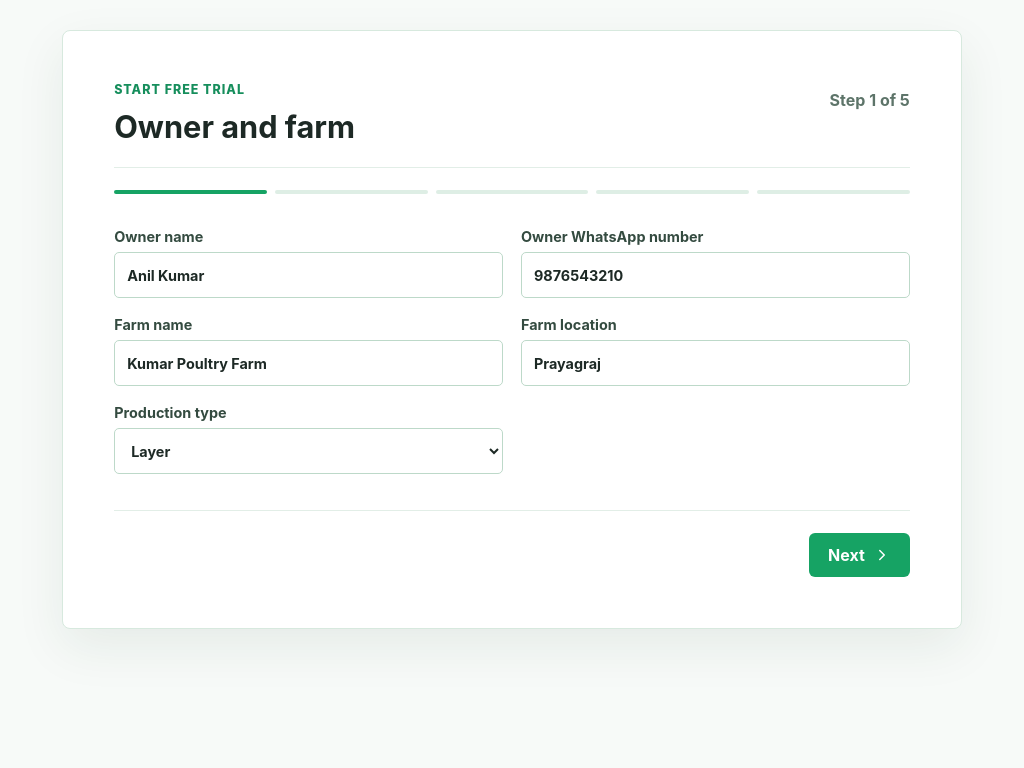
Test: TrialForm › uses live-bird and feed-inventory labels and allows adding a fourth shed
This screenshot has width=1024, height=768.
Click the button "Next" at (859, 555), box x1=809 y1=533 x2=910 y2=577
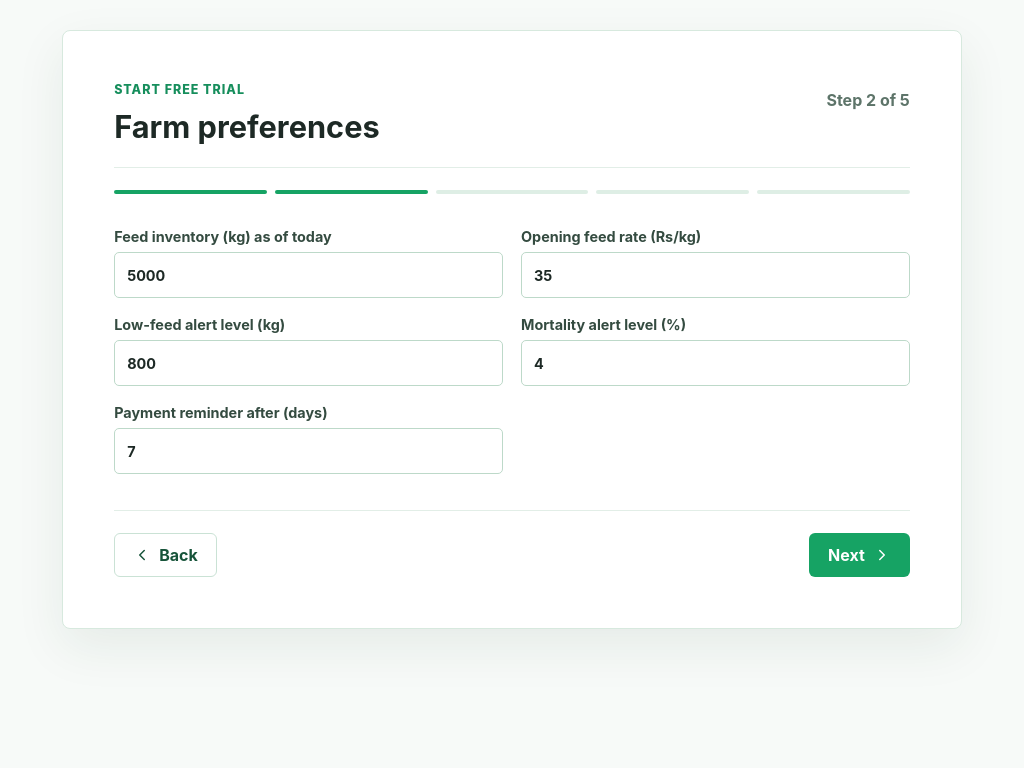
expect the heading "Farm preferences" is shown: met, box x1=114 y1=111 x2=380 y2=143
expect the number field labelled "Feed inventory (kg) as of today" is shown: met, box x1=114 y1=252 x2=503 y2=298
Click the button "Next" at (859, 555), box x1=809 y1=533 x2=910 y2=577
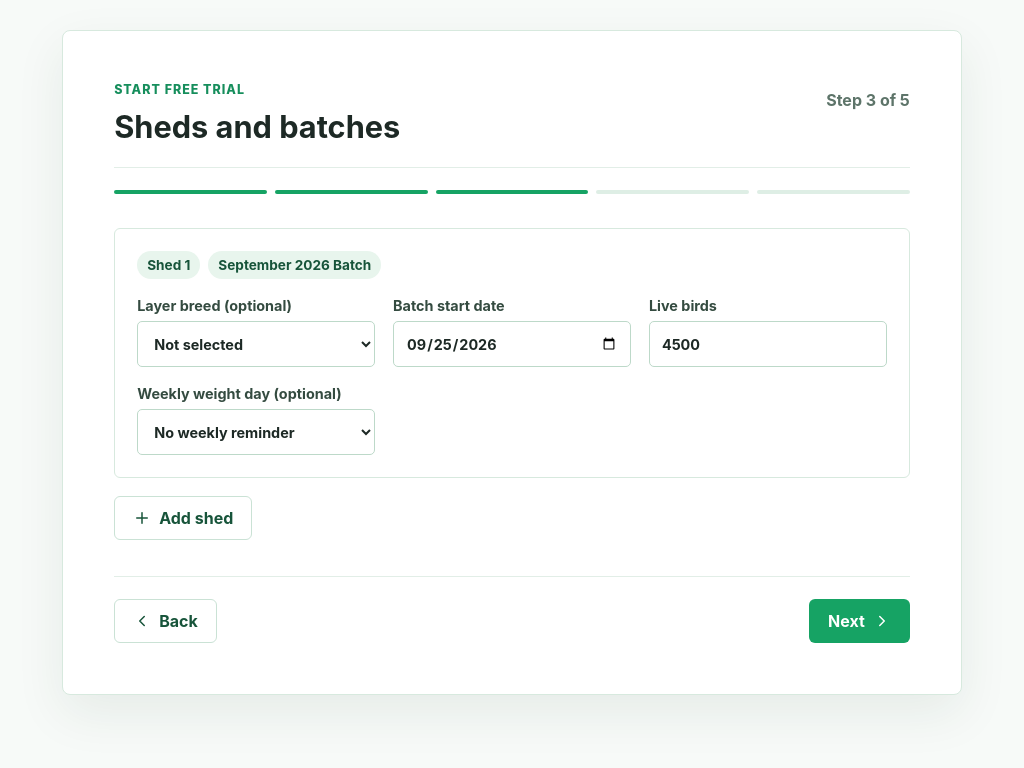
expect the heading "Sheds and batches" is shown: met, box x1=114 y1=111 x2=400 y2=143
expect the number field labelled "Live birds" is shown: met, box x1=649 y1=321 x2=887 y2=367
Click the button "Add shed" at (183, 518), box x1=114 y1=496 x2=252 y2=540
(page scrolled)
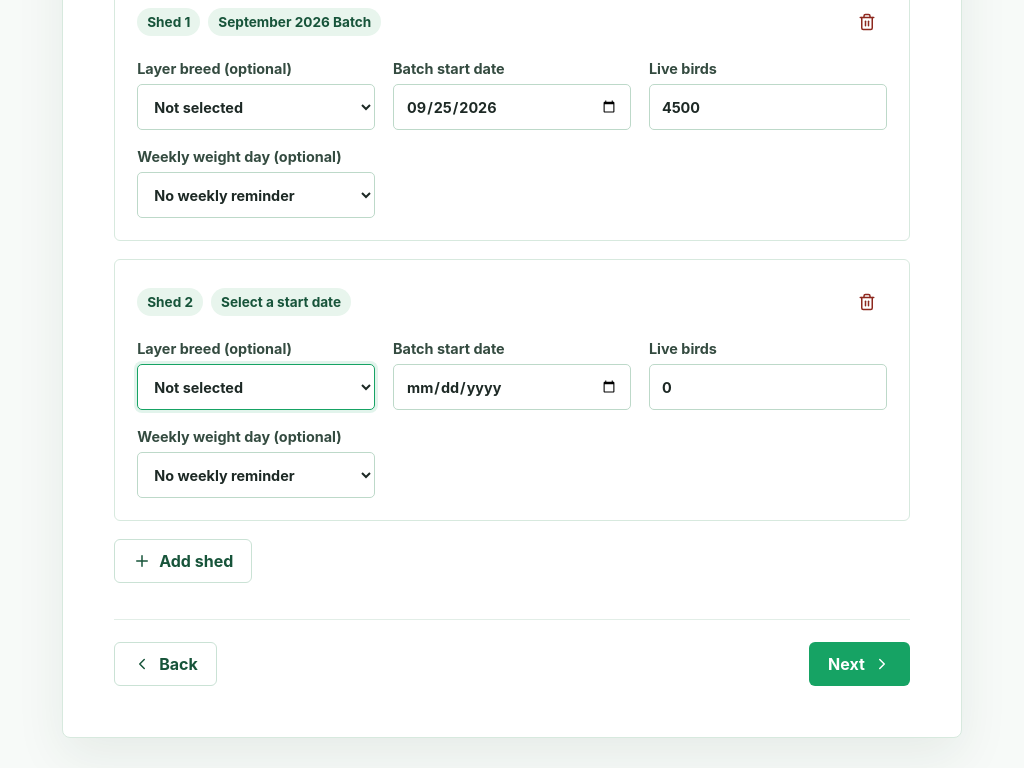
Click the button "Add shed" at (183, 561), box x1=114 y1=539 x2=252 y2=583
(page scrolled)
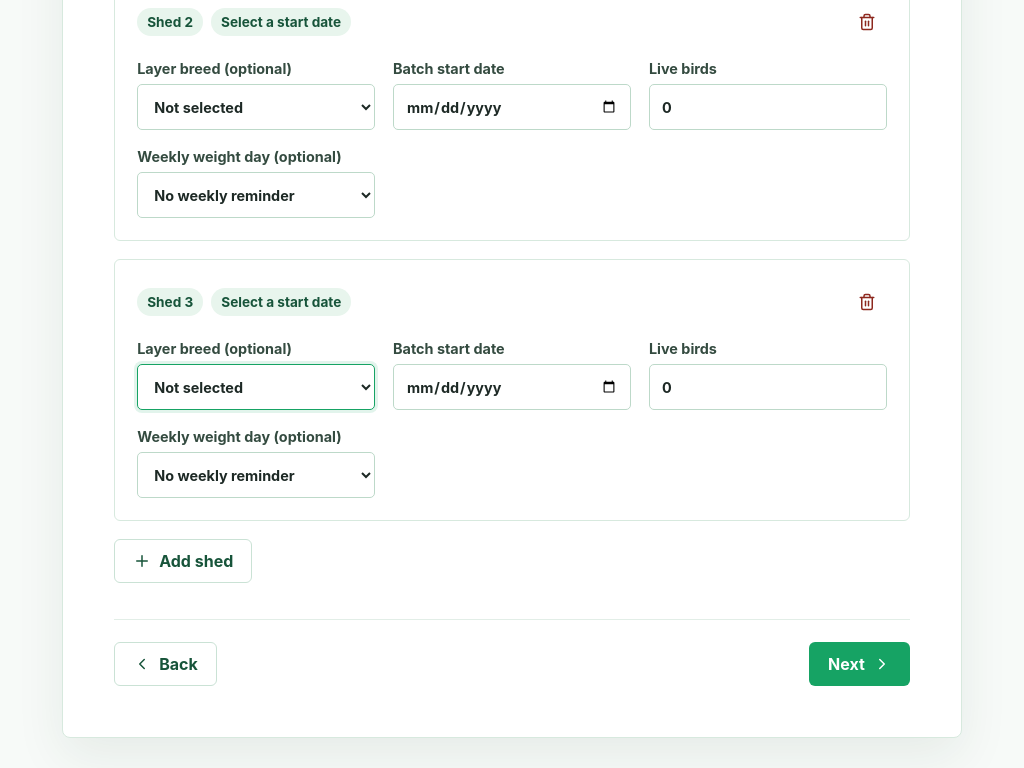
Click the button "Add shed" at (183, 561), box x1=114 y1=539 x2=252 y2=583
(page scrolled)
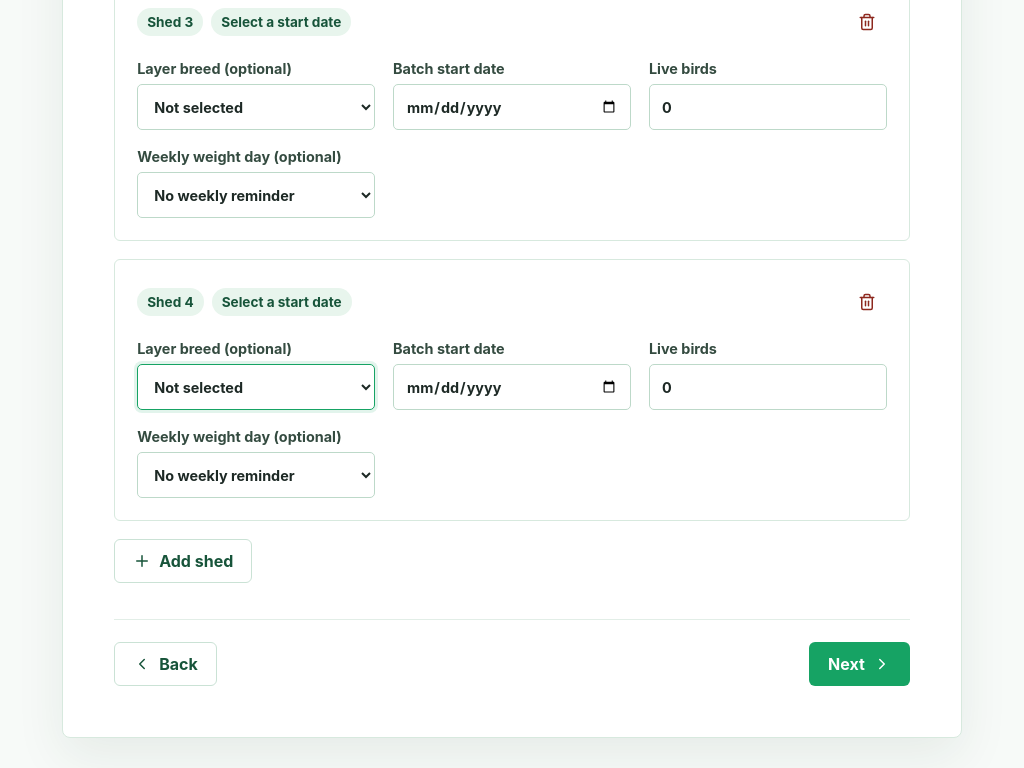
expect the button "Add shed" is enabled: met, box x1=114 y1=539 x2=252 y2=583
expect the text "Shed 4" is shown: met, box x1=137 y1=288 x2=204 y2=316
